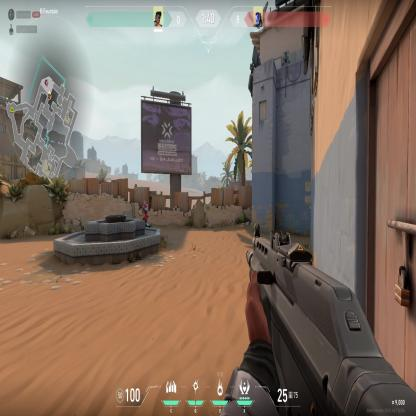enemy: (141, 200, 149, 220)
